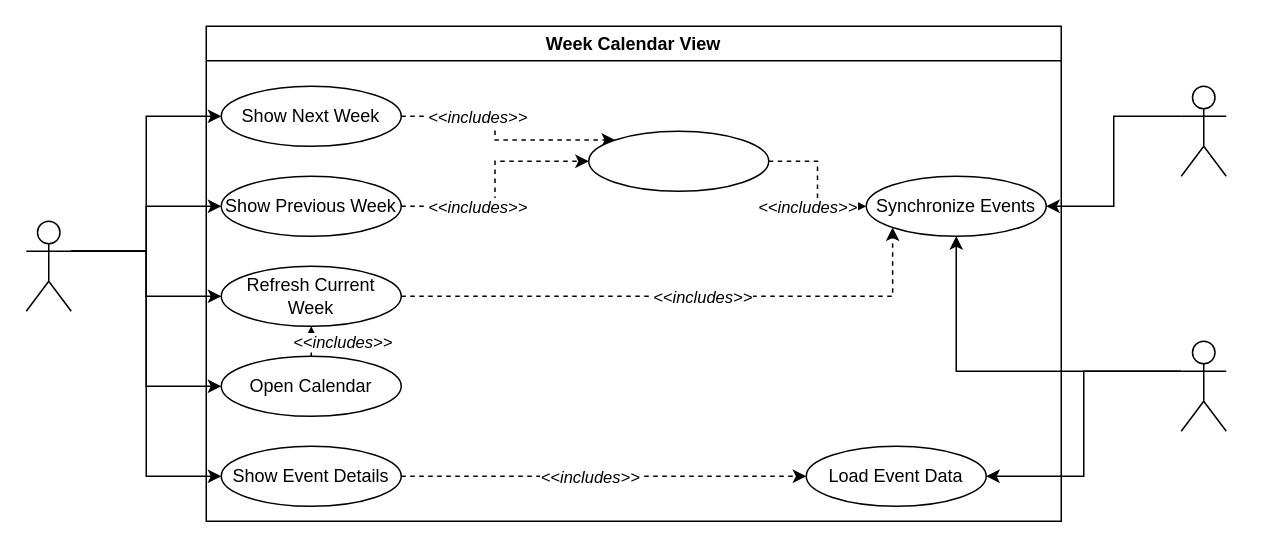
This 1286x548 diagram has some shape labels left out. The shapes that lost their labels are listed below. From the top down, each one's centre as x and y in pixels, then its label:
At point (1203, 130): "Server".
At point (678, 160): "Refresh days".
At point (48, 265): "User".
At point (1203, 385): "Local Storage".
